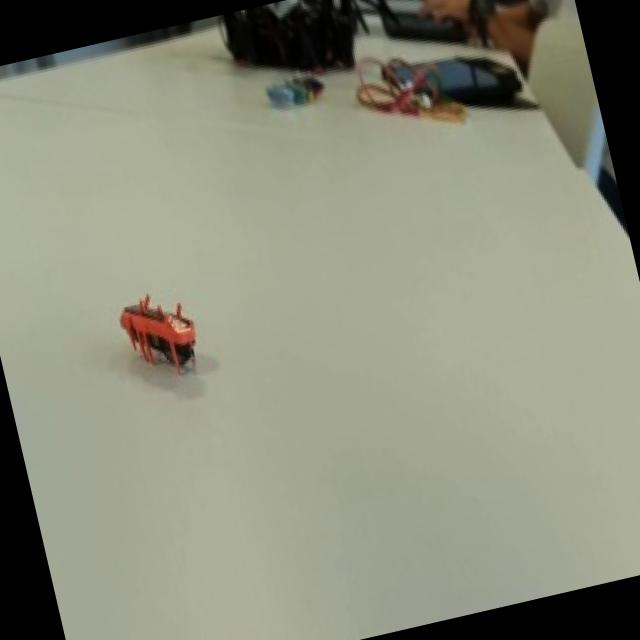2_NanoBug_Negro: (300, 67, 328, 103)
3_NanoBug_Celeste: (266, 76, 296, 117)
7_NanoBug_Naranja: (104, 265, 220, 416)
